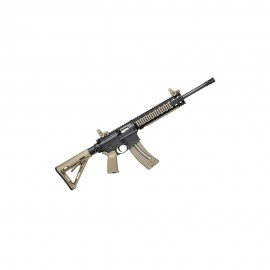Arma Real: (53, 77, 216, 192)
